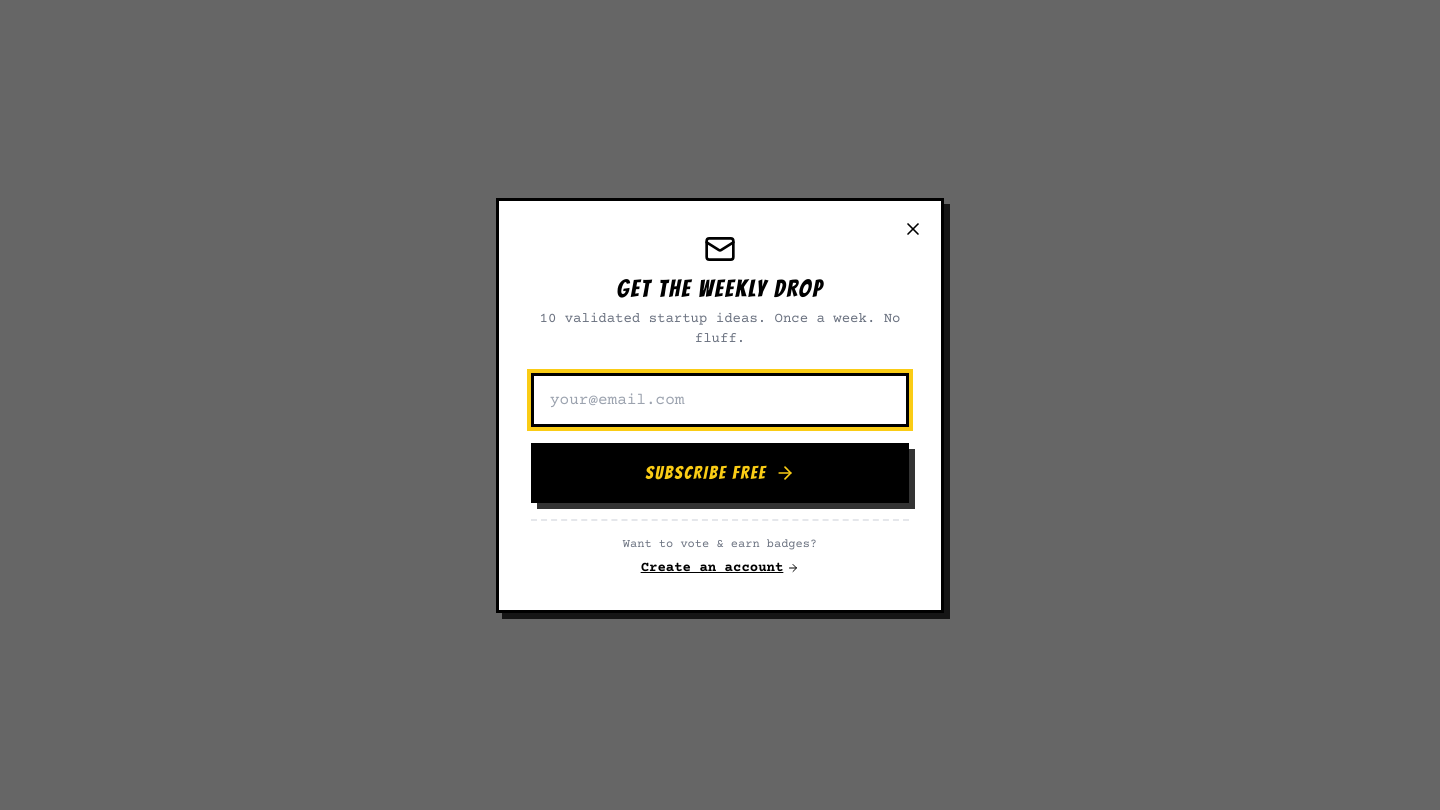
it: SubscribeModal › shows branded error for invalid email on submit
Type "not-an-email" into the field with placeholder "your@email.com" at (720, 400), box [531,372,909,426]
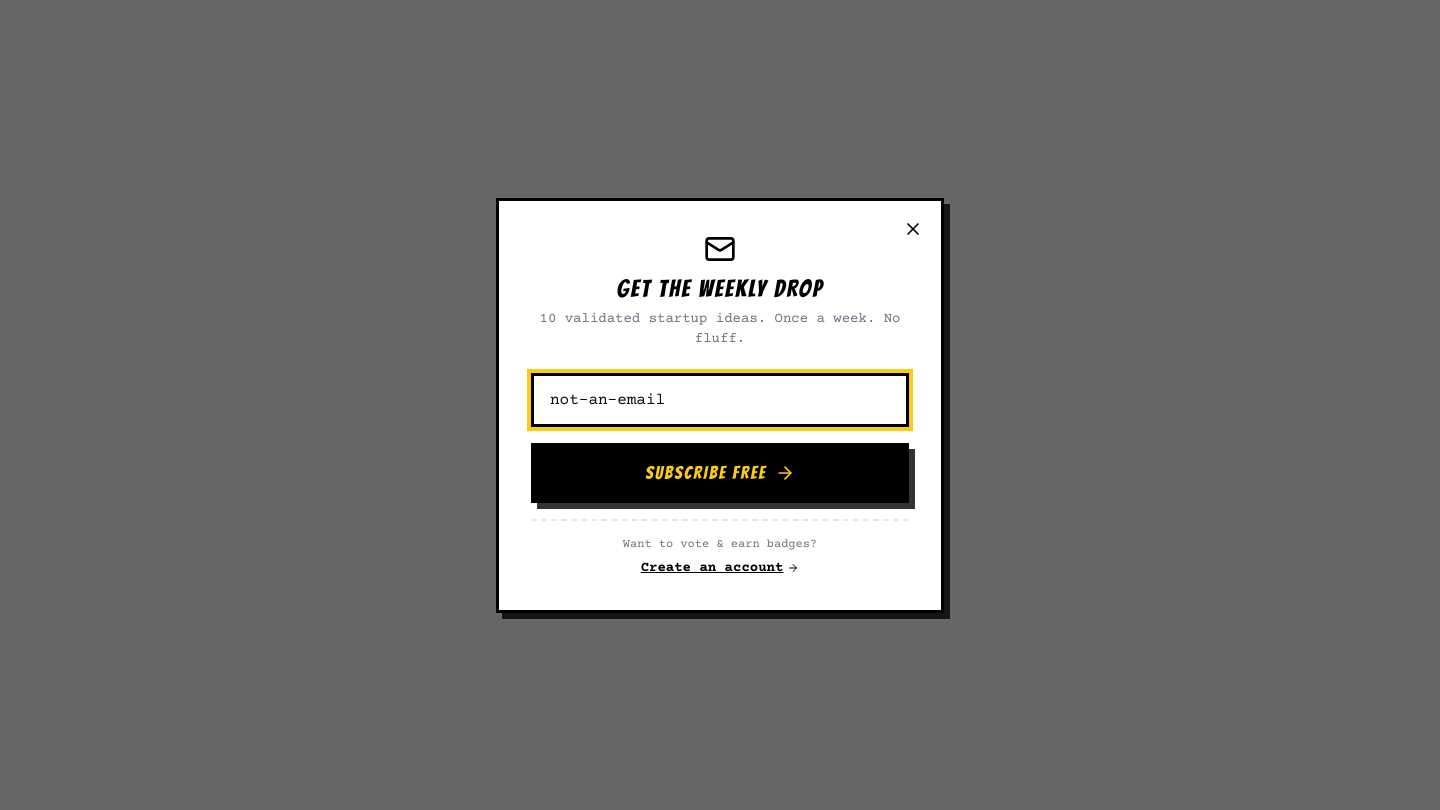
// Try to submit
Click the button "SUBSCRIBE FREE" at (720, 472), box [531,442,909,502]
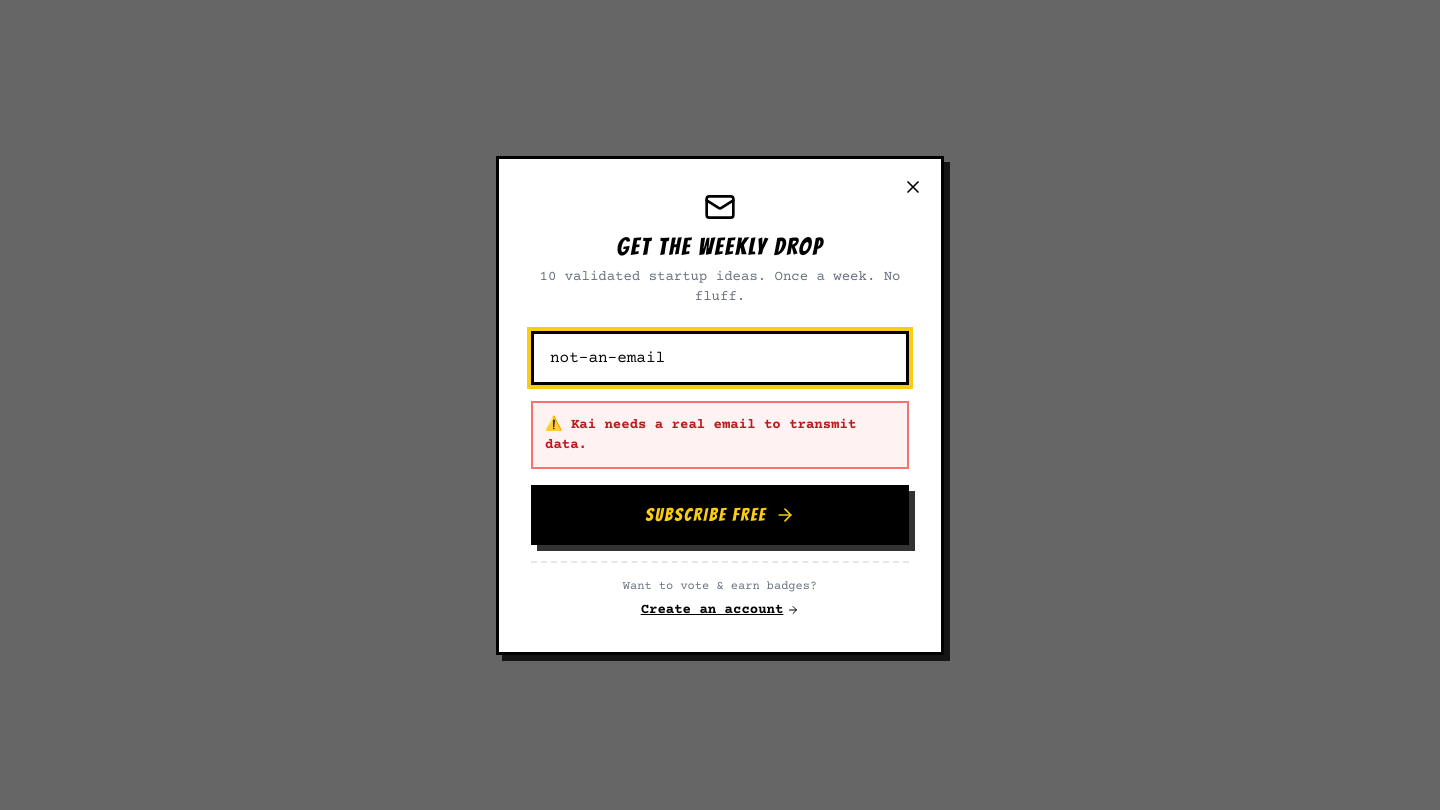
Result: the text "⚠️ Kai needs a real email to transmit data." is shown at [531,400,909,468]
